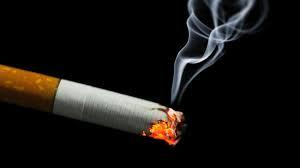smoke: (0, 61, 186, 145)
